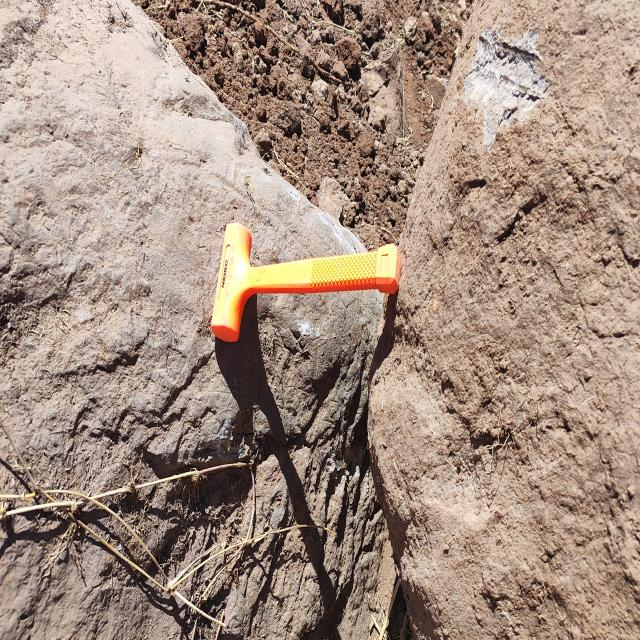Orange_hammer: (210, 220, 402, 343)
